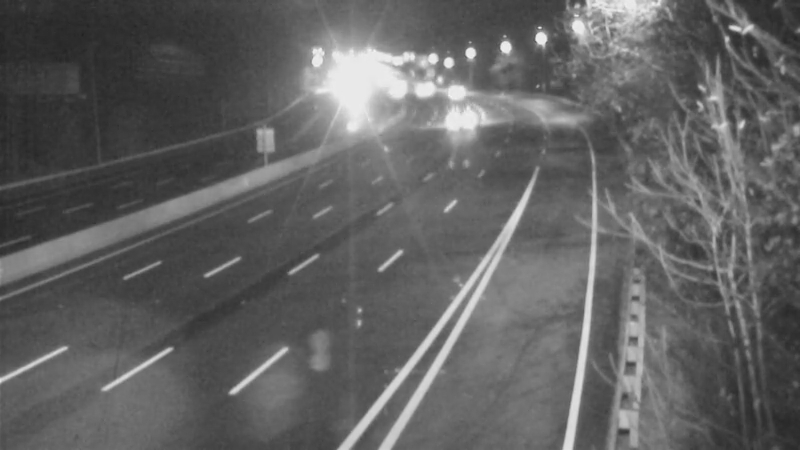vehicle: (429, 68, 479, 118), (437, 101, 487, 151)
